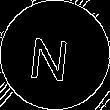N_N: (33, 28, 77, 82)
